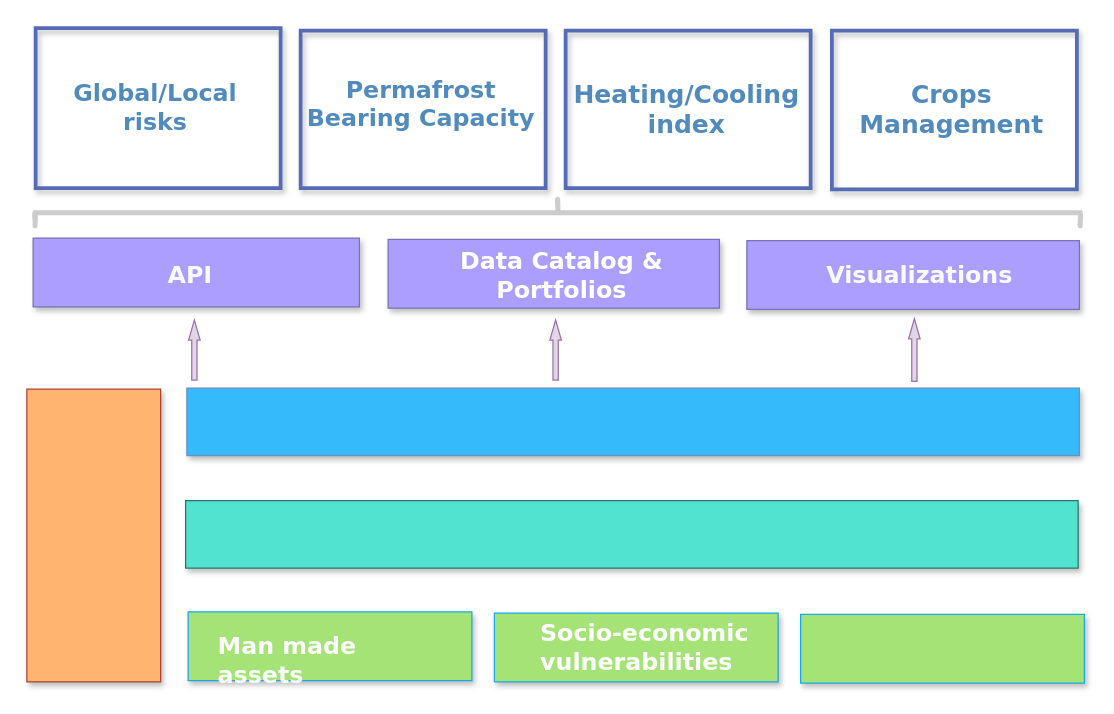
The diagram is 1114 pixels wide and 714 high, and some of its shapes have lost their labels. Each missing label, with the centre of its shape:
"Climate risk from 2030 to 2100" goes at [634,423].
"Earth data interactions" goes at [632,535].
"Machine Learning" goes at [94,537].
